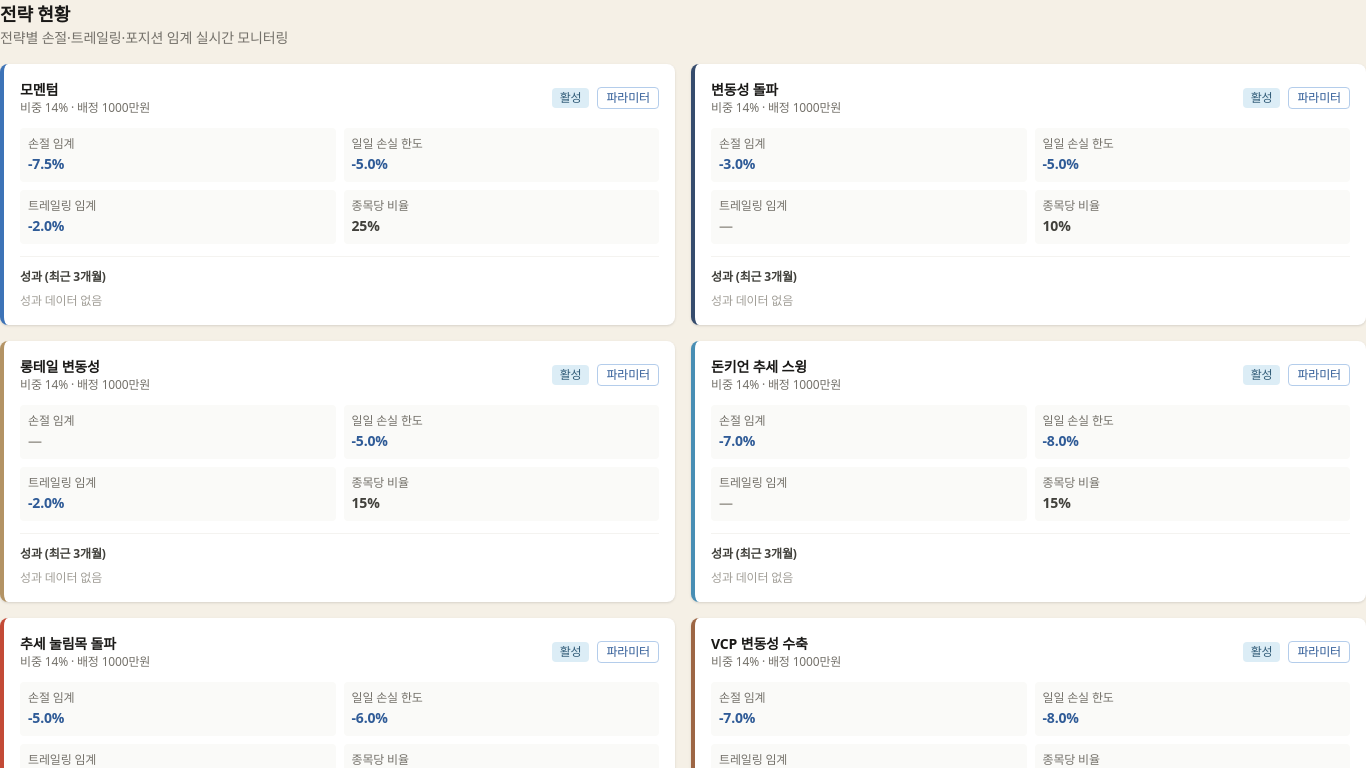
cycle278 F21~F22 — 전략 카드에서 편집기로 › F21 전략 카드마다 "파라미터" 버튼이 있고 누르면 편집기가 열린다
What coordinates should you click on to do the following:
click the button with test id "strategy-params-open-momentum"
I would click on:
 (628, 98)
Its box is [598,87,659,109].
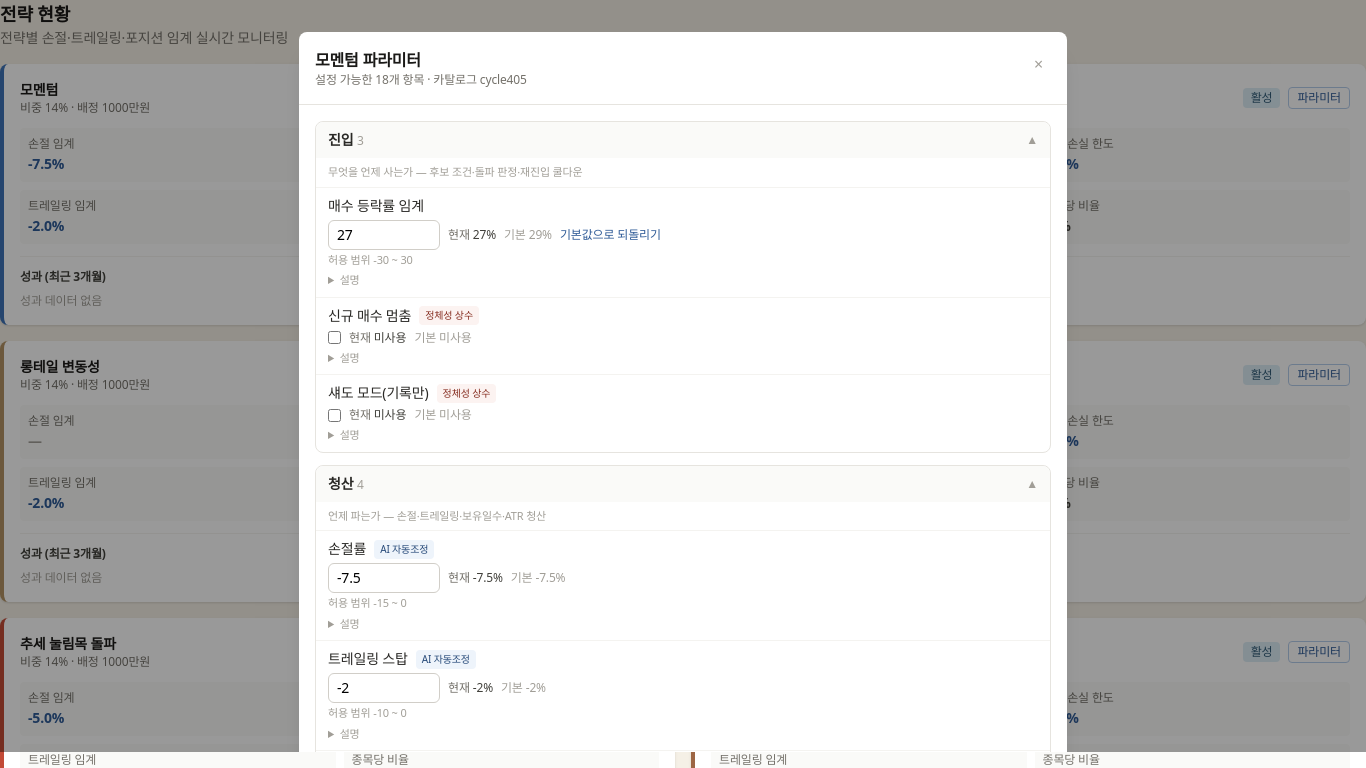
Expected: the heading with test id "strategy-params-title" shows "모멘텀", [315,49,359,71]
Expected: the text with test id "strategy-params-version" reads "cycle405", [480,71,527,88]
